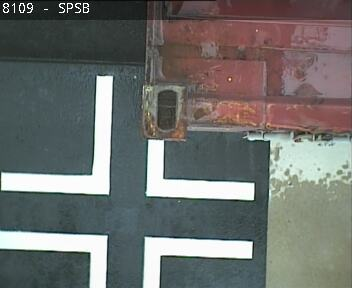groundmarker_1: (2, 76, 256, 206), (1, 231, 249, 288)
